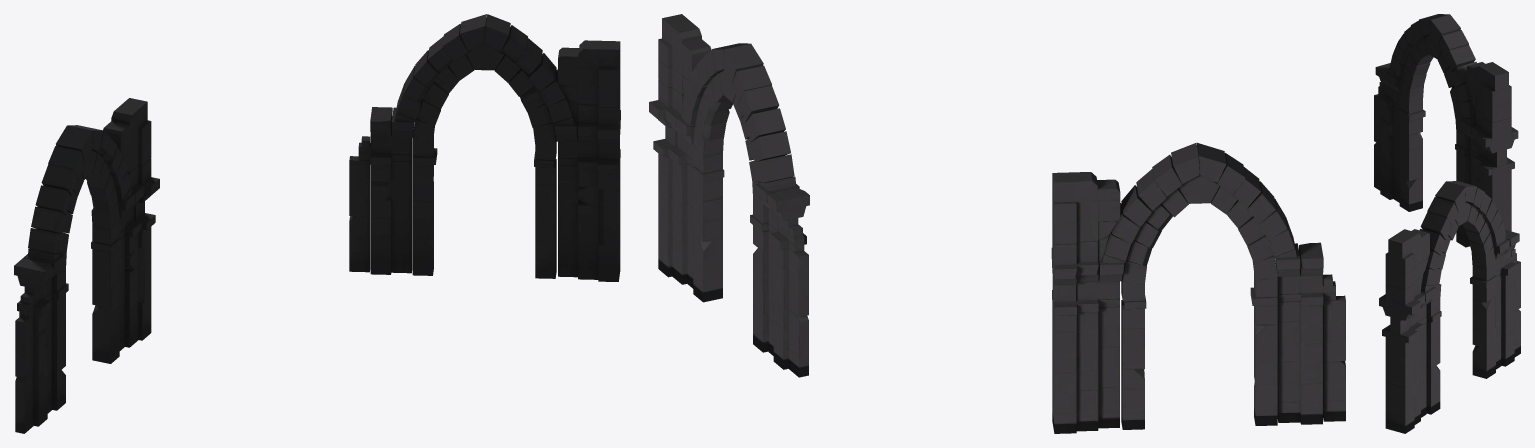
Rendered from WizardTraining.glb.
The picture shows the model from 3 angles, left to right: view 1: azimuth 30°, elevation 25°; view 2: azimuth 150°, elevation 25°; view 3: azimuth 270°, elevation 25°; orthographic projection. The views are drawn at different scales.
Visible parts, largest first — view 1: Archway1_Baked, Archway1.001_Baked; view 2: Archway1.001_Baked, Archway1_Baked; view 3: Archway1_Baked, Archway1.001_Baked.
Part boxes in pixels (x1,y1,x2,y2): Archway1_Baked: (349,14,620,281); Archway1.001_Baked: (14,98,159,433); Archway1.001_Baked: (1051,142,1345,433); Archway1_Baked: (649,14,809,377); Archway1_Baked: (1379,181,1520,433); Archway1.001_Baked: (1374,14,1518,247).
Size of what is drawn, in the model's own units: 17.77 by 6.88 by 4.4.
Materials: 1 (1 with a texture image).
